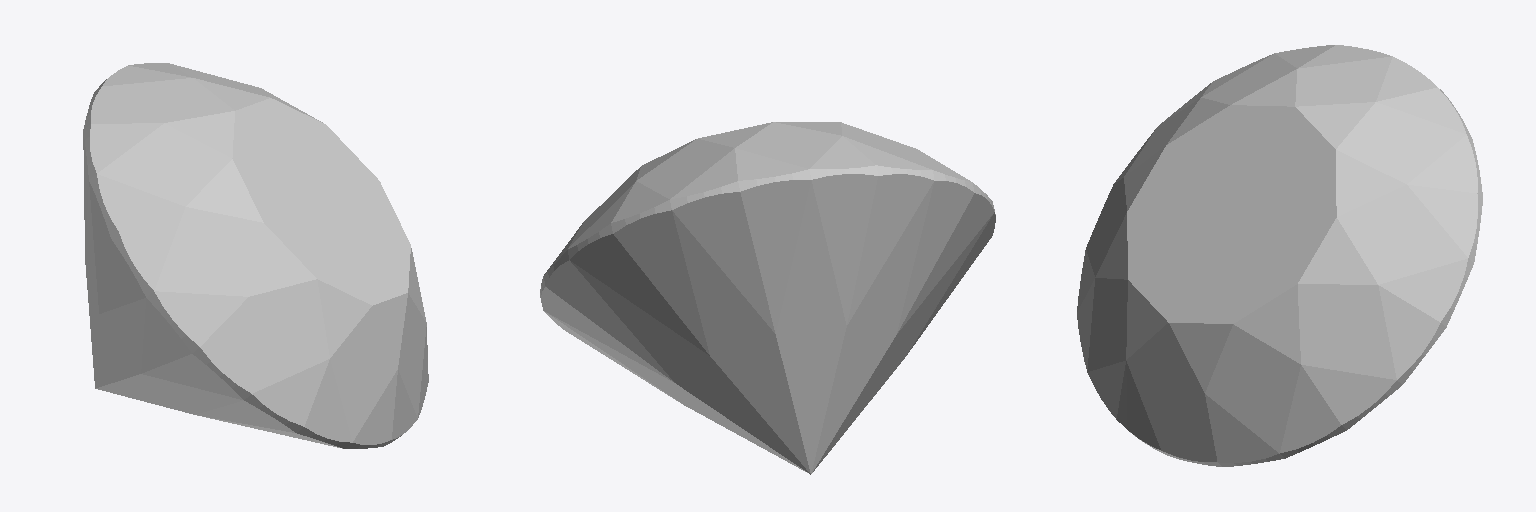
Rendered from diamond.obj.
3 views of the same model, side by side, from view 1: azimuth 30°, elevation 25°; view 2: azimuth 150°, elevation 25°; view 3: azimuth 270°, elevation 25° (orthographic).
Visible parts, largest first — view 1: dobj; view 2: dobj; view 3: dobj.
Part boxes in pixels (x1,y1,x2,y2): dobj: (83,63,428,448); dobj: (540,122,995,474); dobj: (1077,45,1482,466).
Size of the model in its own units: 2.64 by 2.17 by 2.64.